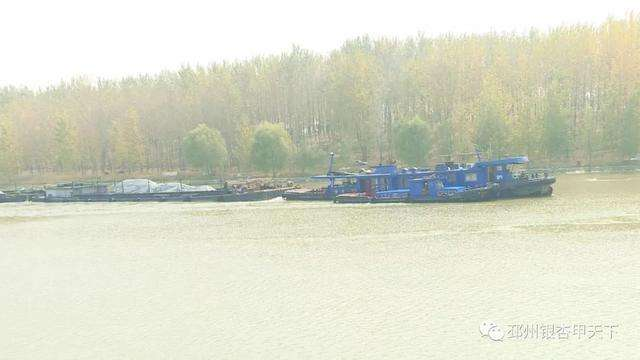boat: (349, 159, 548, 203), (37, 174, 295, 201), (289, 165, 418, 203)
